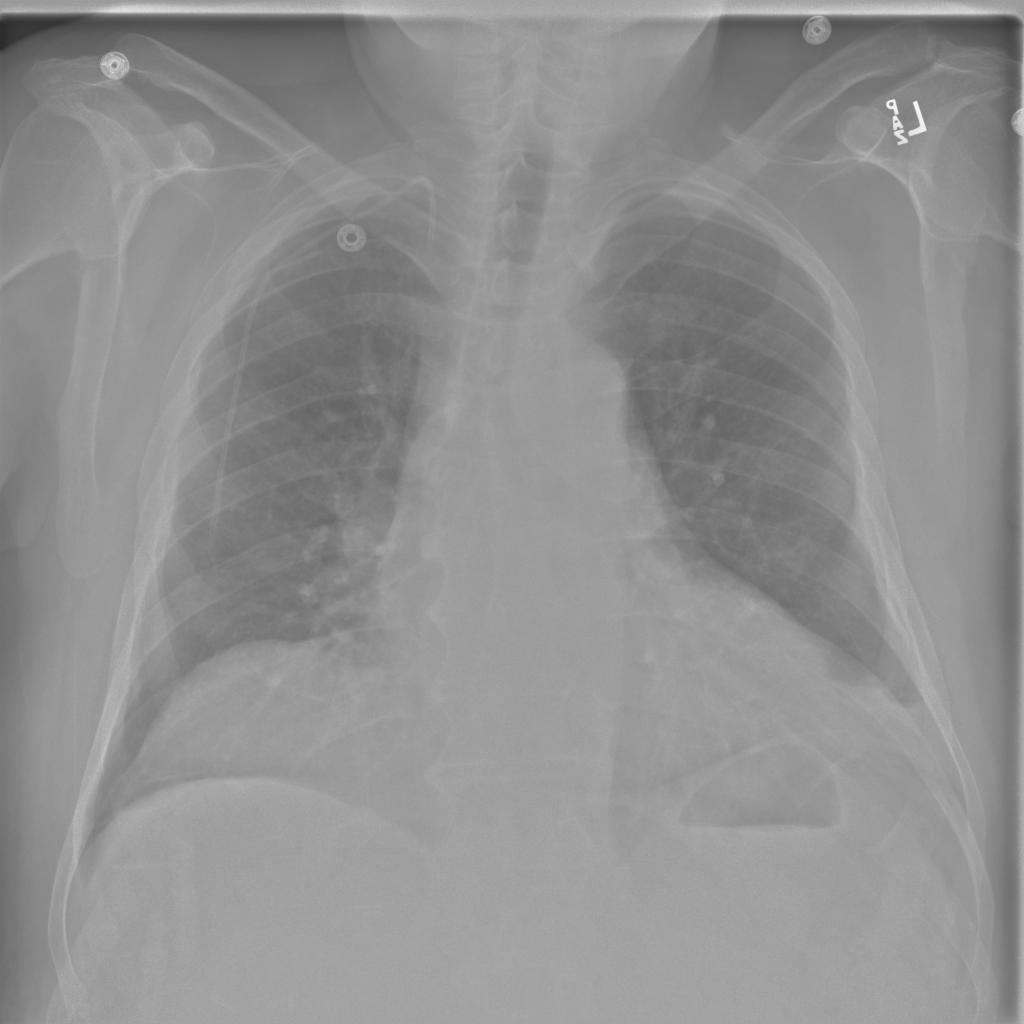Nodule: (343, 206, 389, 252), (349, 169, 381, 201)
